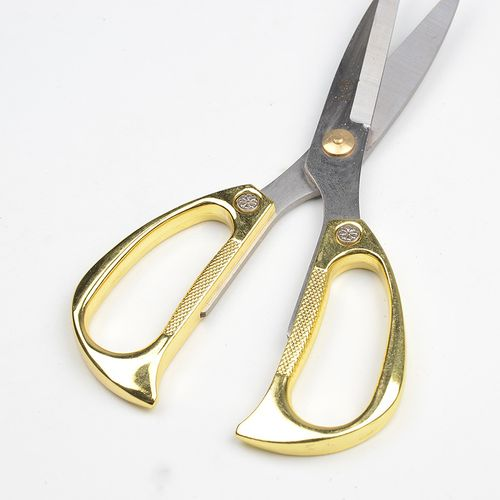scissor: (69, 1, 460, 462)
